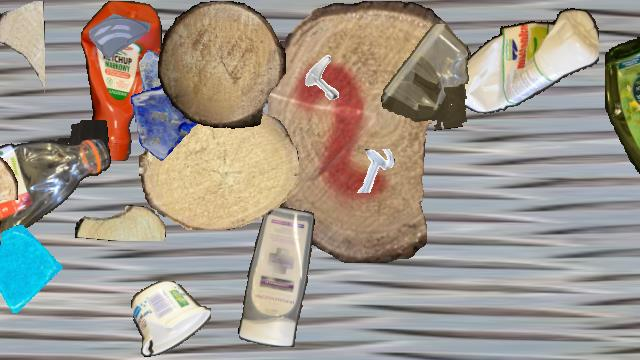glass: (129, 79, 213, 163), (0, 225, 67, 313), (89, 1, 151, 63), (139, 46, 195, 102), (0, 1, 5, 61)
metal: (299, 52, 351, 104), (352, 149, 396, 193)
plastic: (440, 1, 598, 121), (0, 120, 111, 238), (81, 1, 161, 161), (237, 206, 315, 346), (379, 24, 471, 130), (131, 281, 211, 357), (605, 37, 640, 209)
wood: (268, 1, 472, 263), (139, 109, 299, 229), (158, 1, 286, 129), (0, 1, 45, 97), (75, 205, 165, 241), (0, 150, 17, 200)
